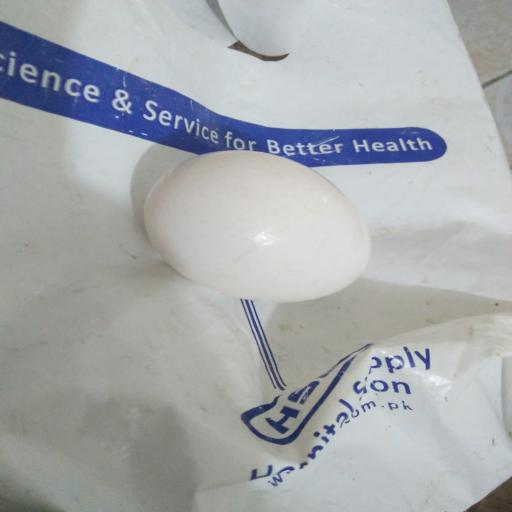telur: (143, 150, 371, 302)
